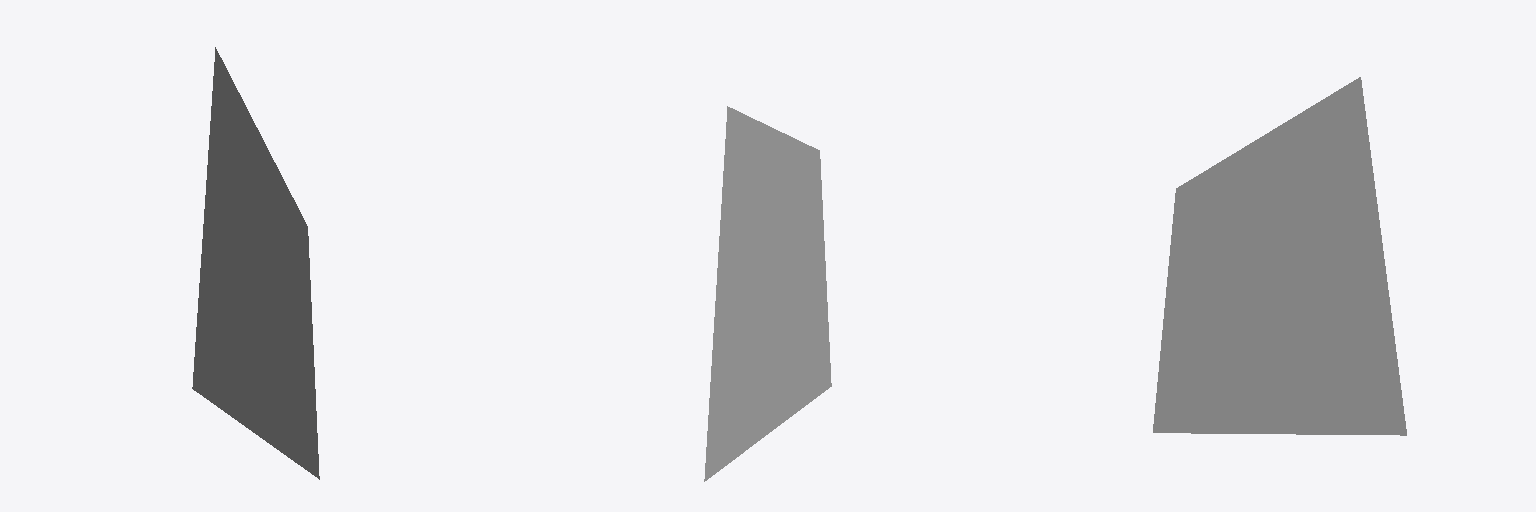
The model's file is lug_sail.obj.
3 renders of one model, left to right at view 1: azimuth 30°, elevation 25°; view 2: azimuth 150°, elevation 25°; view 3: azimuth 270°, elevation 25°, orthographic.
Visible parts, largest first — view 1: Plane.001; view 2: Plane.001; view 3: Plane.001.
Boxes of the visible parts, box(x1,y1,x2,y2) form: Plane.001: box(192, 47, 319, 479); Plane.001: box(704, 106, 831, 481); Plane.001: box(1153, 77, 1406, 435).
Bounding box in the file's own units: 0 × 4.86 × 3.13.